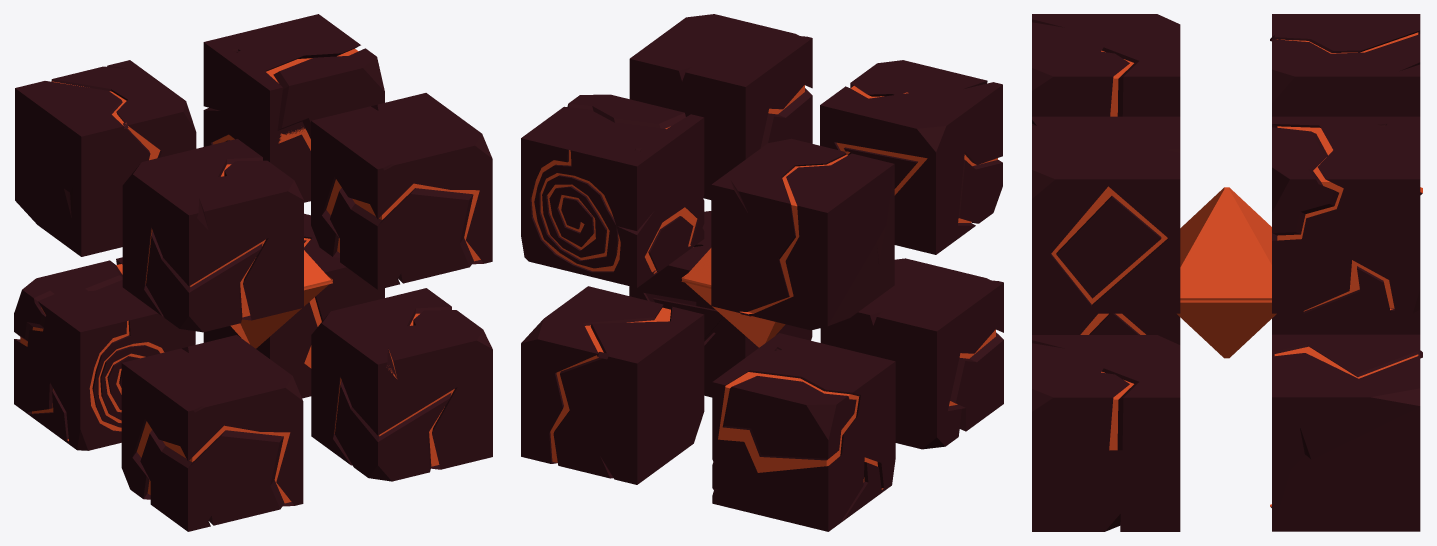
File: HipostasisElementalFuego.glb
The picture shows the model from 3 angles, left to right: view 1: azimuth 30°, elevation 25°; view 2: azimuth 150°, elevation 25°; view 3: azimuth 270°, elevation 25°; orthographic projection. The views are drawn at different scales.
Visible parts, largest first — view 1: Cube8, Cube1, Cube6, Cube7, Cube4, Cube3, Cube2, Cube5, Nucleo; view 2: Cube3, Cube2, Cube4, Cube5, Cube6, Cube8, Cube1, Cube7, Nucleo; view 3: Cube5, Cube1, Cube2, Cube7, Cube4, Cube6, Nucleo, Cube8, Cube3.
Part boxes in pixels (x1,y1,x2,y2): Cube8: (121,335,303,531); Cube1: (311,93,492,289); Cube6: (122,139,303,332); Cube7: (311,288,492,481); Cube4: (15,60,196,256); Cube3: (14,257,195,450); Cube2: (203,14,384,202); Cube5: (203,213,384,398); Nucleo: (230,250,332,348); Cube3: (712,333,895,531); Cube2: (521,94,704,287); Cube4: (711,138,894,330); Cube5: (521,286,704,484); Cube6: (820,60,1002,254); Cube8: (820,258,1003,449); Cube1: (629,14,812,199); Cube7: (629,211,812,397); Nucleo: (681,248,785,347); Cube5: (1270,334,1422,531); Cube1: (1032,116,1180,313); Cube2: (1272,116,1420,313); Cube7: (1032,335,1180,531); Cube4: (1270,14,1422,195); Cube6: (1032,14,1180,116); Nucleo: (1177,187,1276,358); Cube8: (1032,313,1180,344); Cube3: (1272,310,1420,334).
Size of the model in its own units: 4.23 by 4.24 by 4.21.
